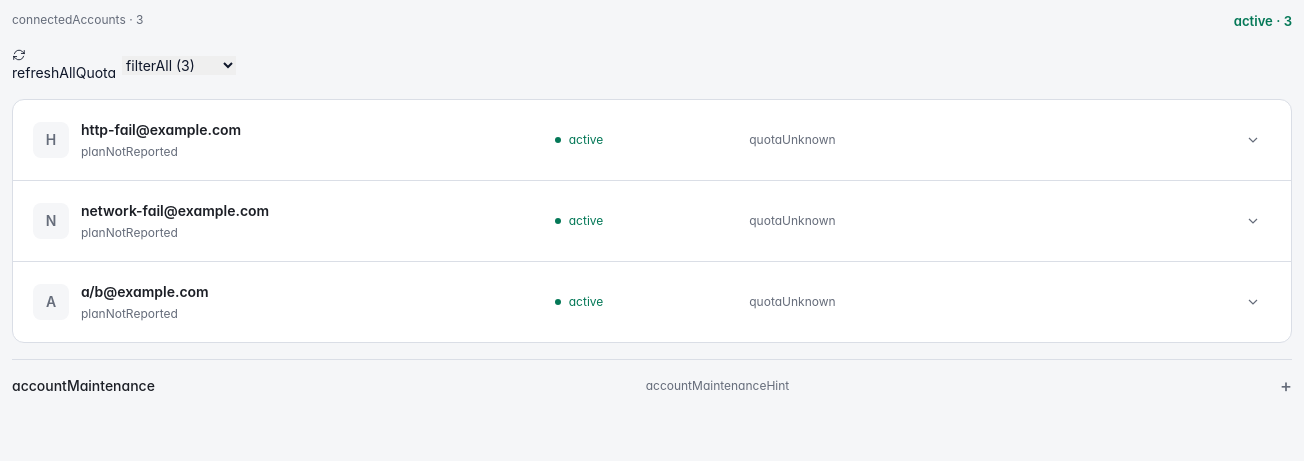
Test case: AccountList › continues after HTTP and network failures and encodes account identifiers
Step 1. Click the button "refreshAllQuota" → [64, 65], box [12,48,116,83]
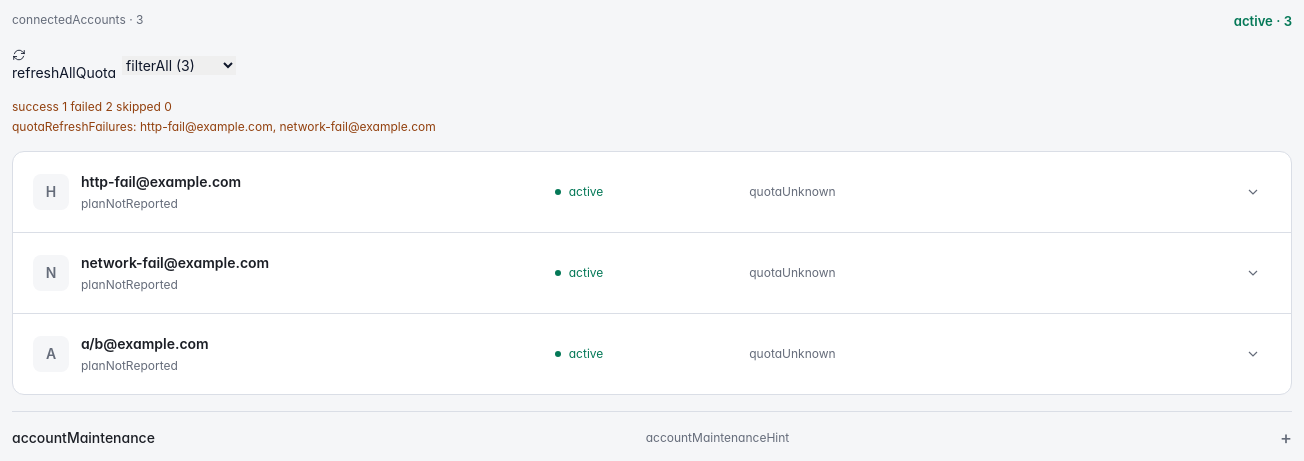
Expected: the message shows "success 1 failed 2 skipped 0", [12,99,172,114]
Expected: the message shows "network-fail@example.com", [140,119,436,134]
